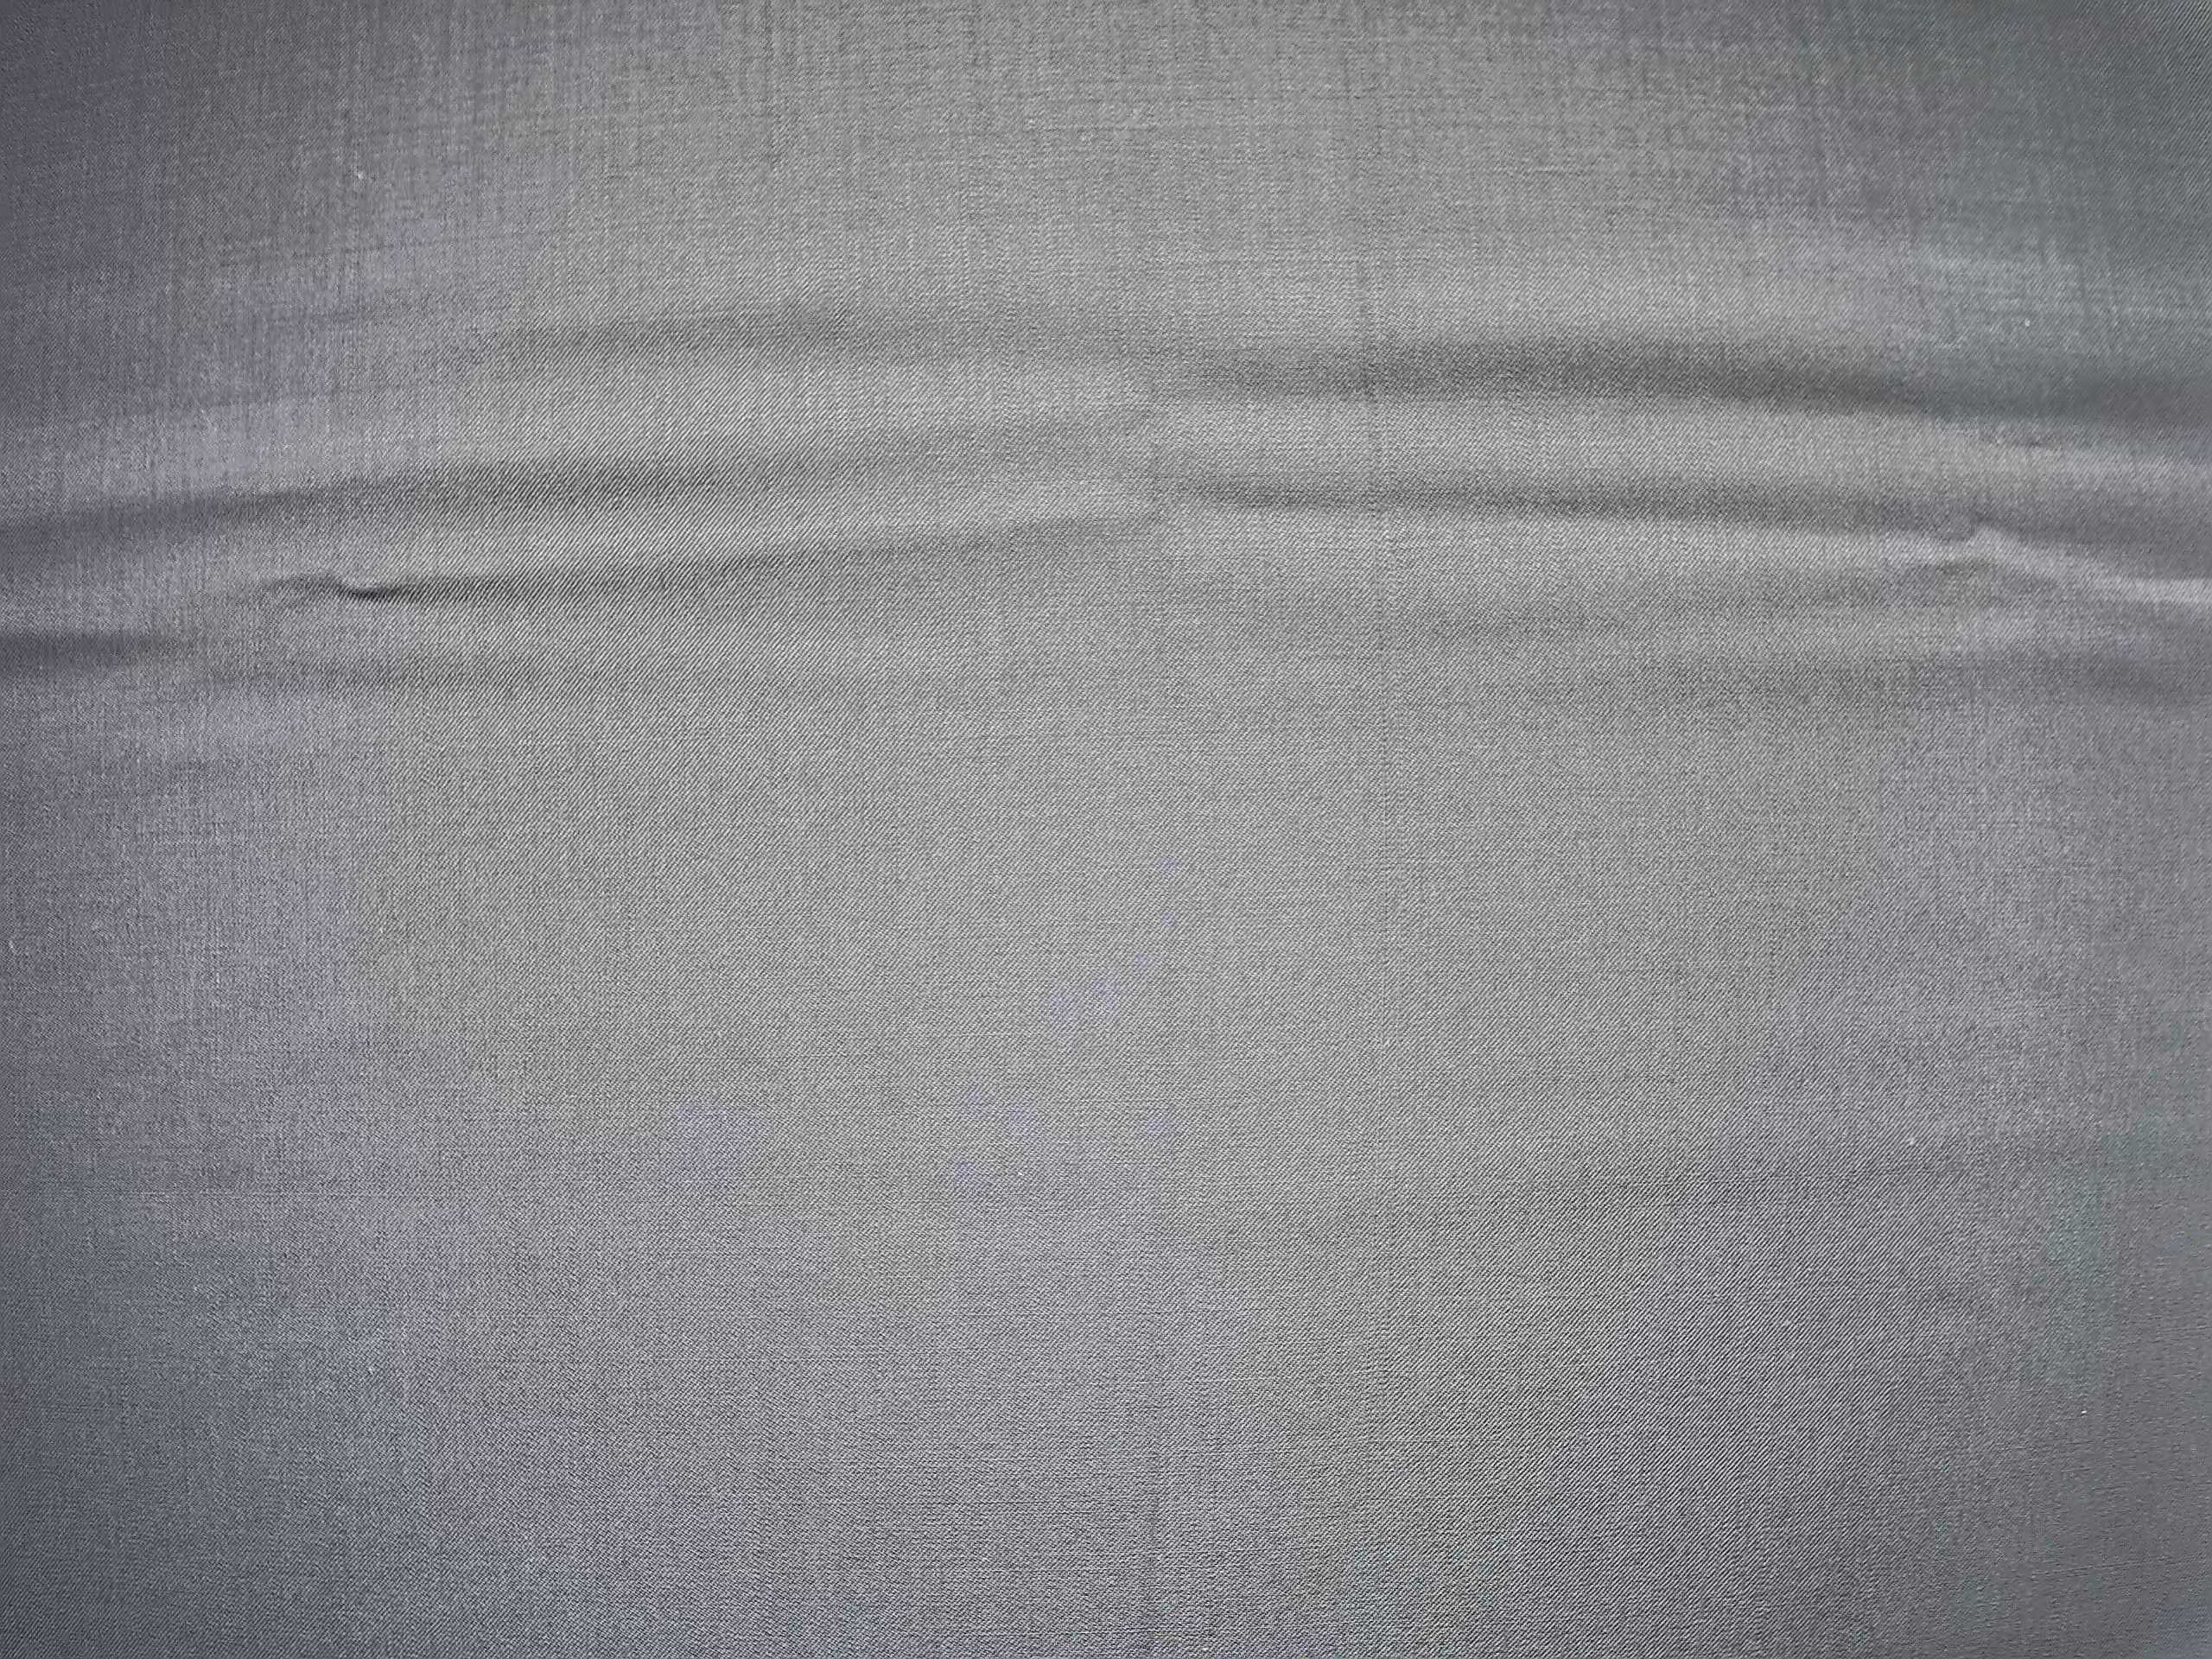hanging-warp: (1332, 197, 1418, 817)
